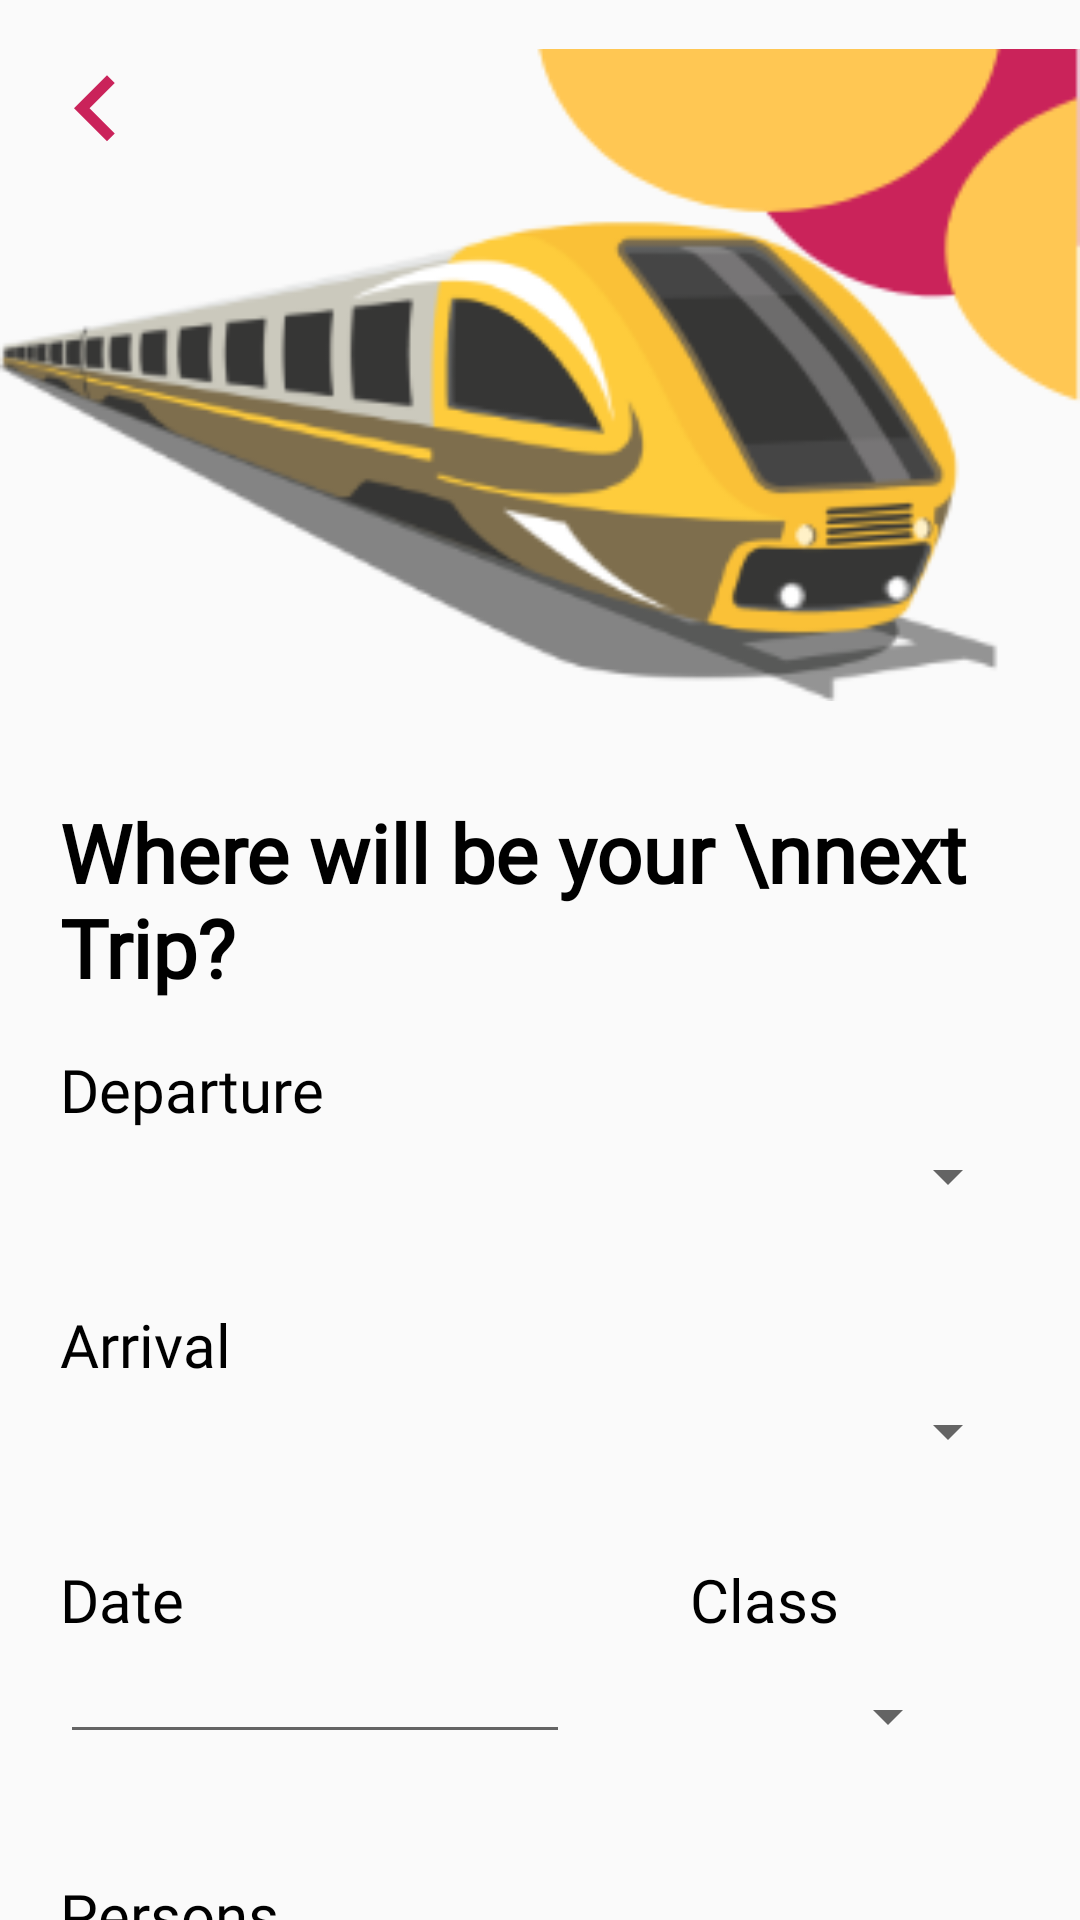

Icons on this 1080x1920 Android screen, each with the point to tap as (x=x, y=y):
keyboard arrow left: (x=94, y=108)
